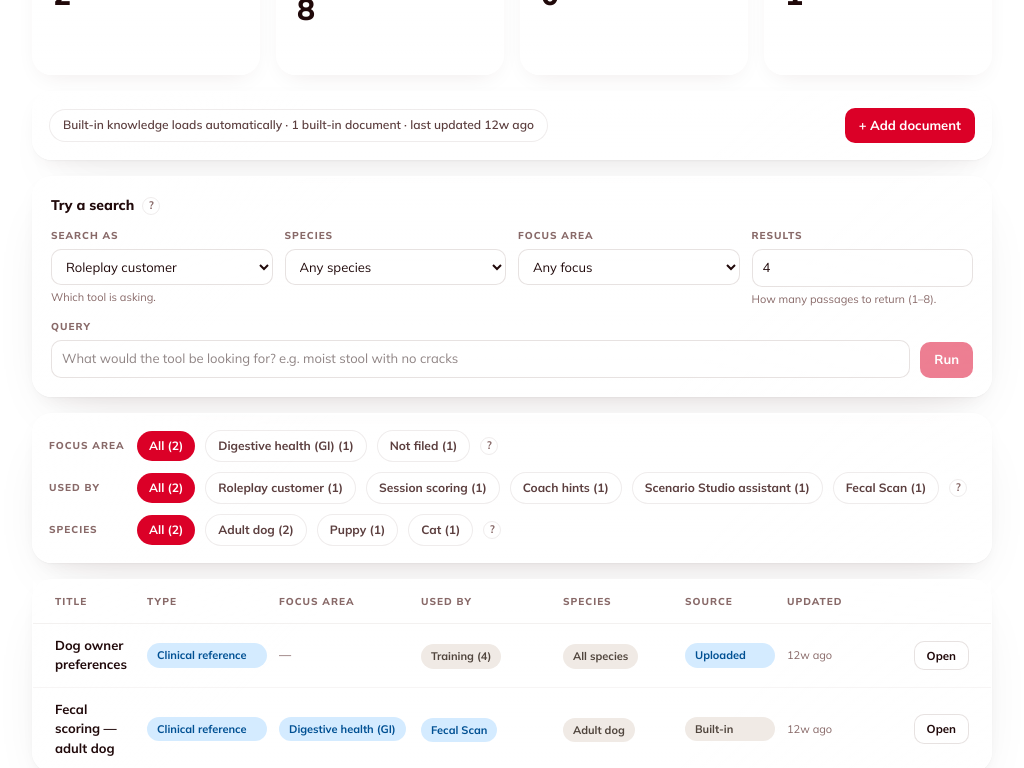
Test: the document editor › states the scope as one sentence
(page scrolled)
Click the text "Fecal scoring — adult dog" at (86,728), box left=55, top=701, right=117, bottom=756
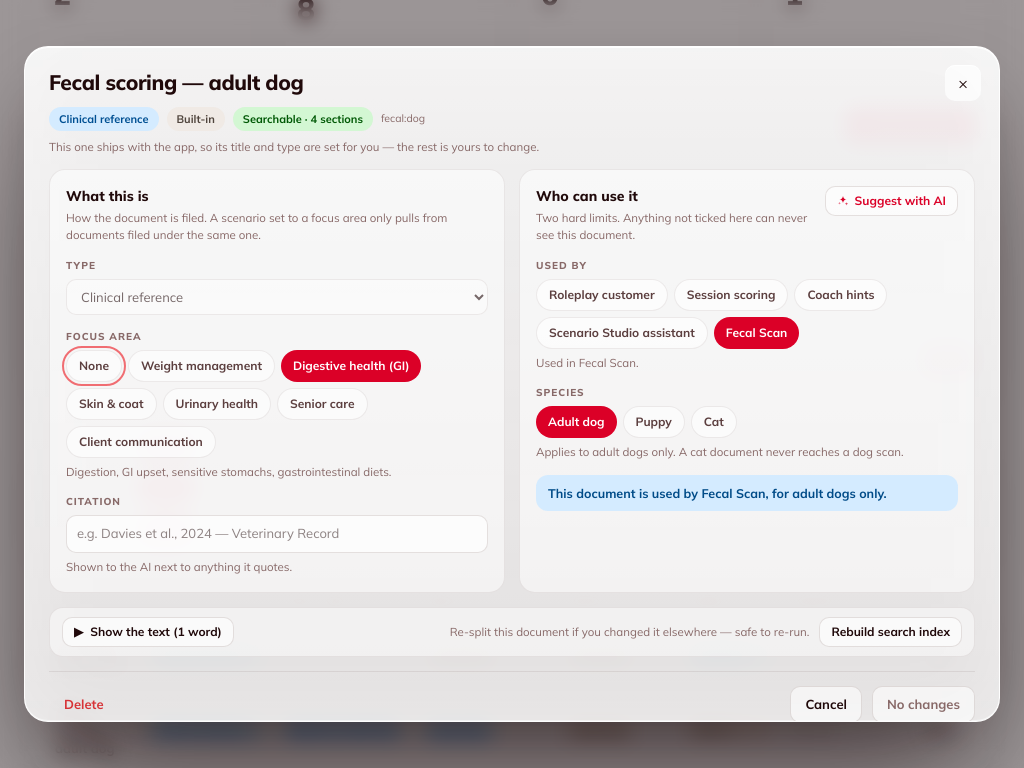
Expected: the text "This document is used by Fecal Scan, for adult dogs only." is shown, left=536, top=475, right=958, bottom=511
